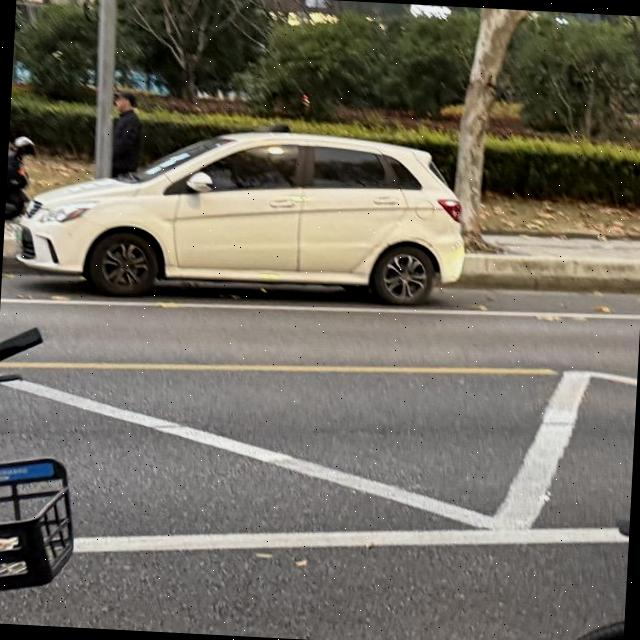curb: (460, 254, 640, 292)
